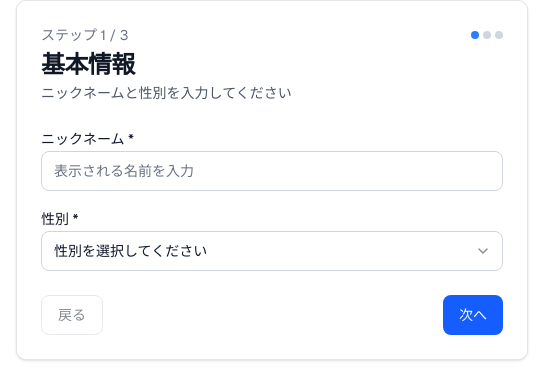
Test case: ProfileRegistrationForm › Stage 1 - 基本情報 › 有効な入力で次のステージに進む
The image size is (545, 378).
Type "テストユーザー" into the field labelled "ニックネーム *" at (272, 171), box 41,151 -> 503,191
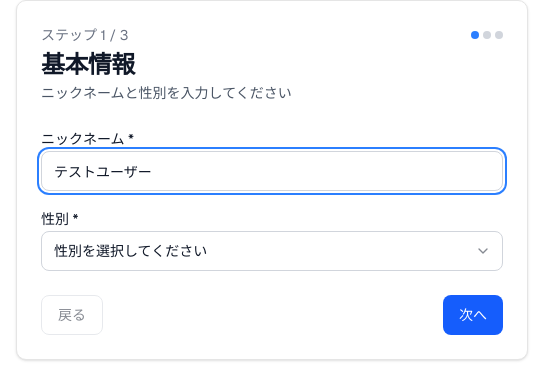
Select "男性" in the dropdown labelled "性別 *" at (272, 251), box 41,231 -> 503,271
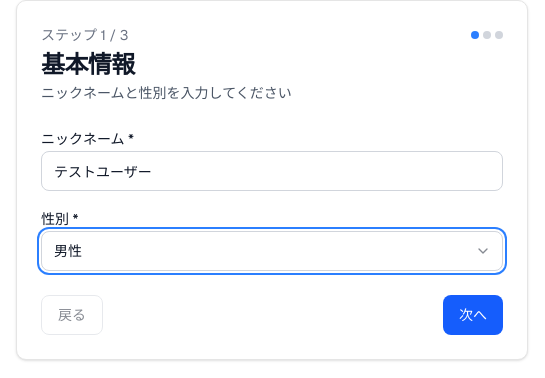
Click the button "次へ" at (473, 315), box 443,295 -> 503,335
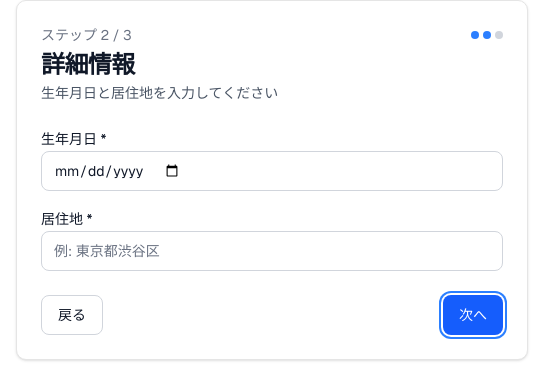
Expected: the heading "詳細情報" is shown, 41,49 -> 135,80
